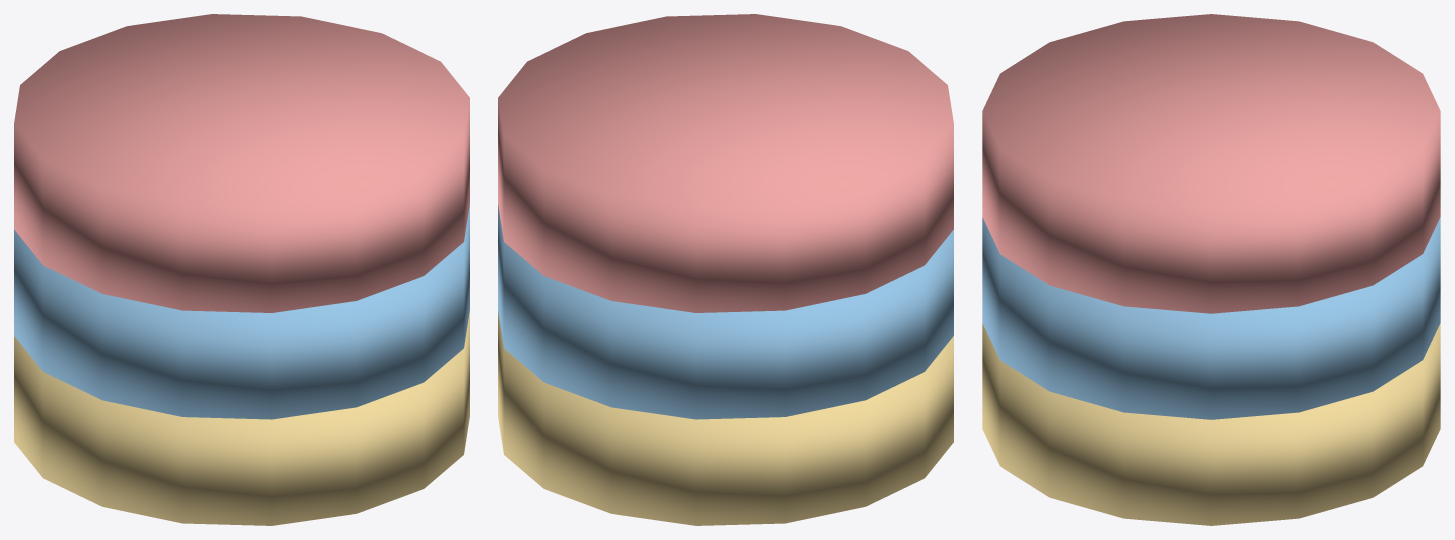
The model's file is liquid-layer-set.glb.
The picture shows the model from 3 angles, left to right: view 1: azimuth 30°, elevation 25°; view 2: azimuth 150°, elevation 25°; view 3: azimuth 270°, elevation 25°; orthographic projection.
Visible parts, largest first — view 1: layer_2, layer_1, layer_0; view 2: layer_2, layer_1, layer_0; view 3: layer_2, layer_1, layer_0.
Part boxes in pixels (x1,y1,x2,y2): layer_2: [14, 14, 469, 312]; layer_1: [14, 204, 469, 419]; layer_0: [14, 311, 469, 525]; layer_2: [498, 14, 953, 312]; layer_1: [498, 204, 953, 419]; layer_0: [498, 311, 953, 525]; layer_2: [982, 14, 1440, 313]; layer_1: [982, 217, 1440, 419]; layer_0: [982, 323, 1440, 525].
Size of the model in its own units: 0.9 by 0.69 by 0.9.
